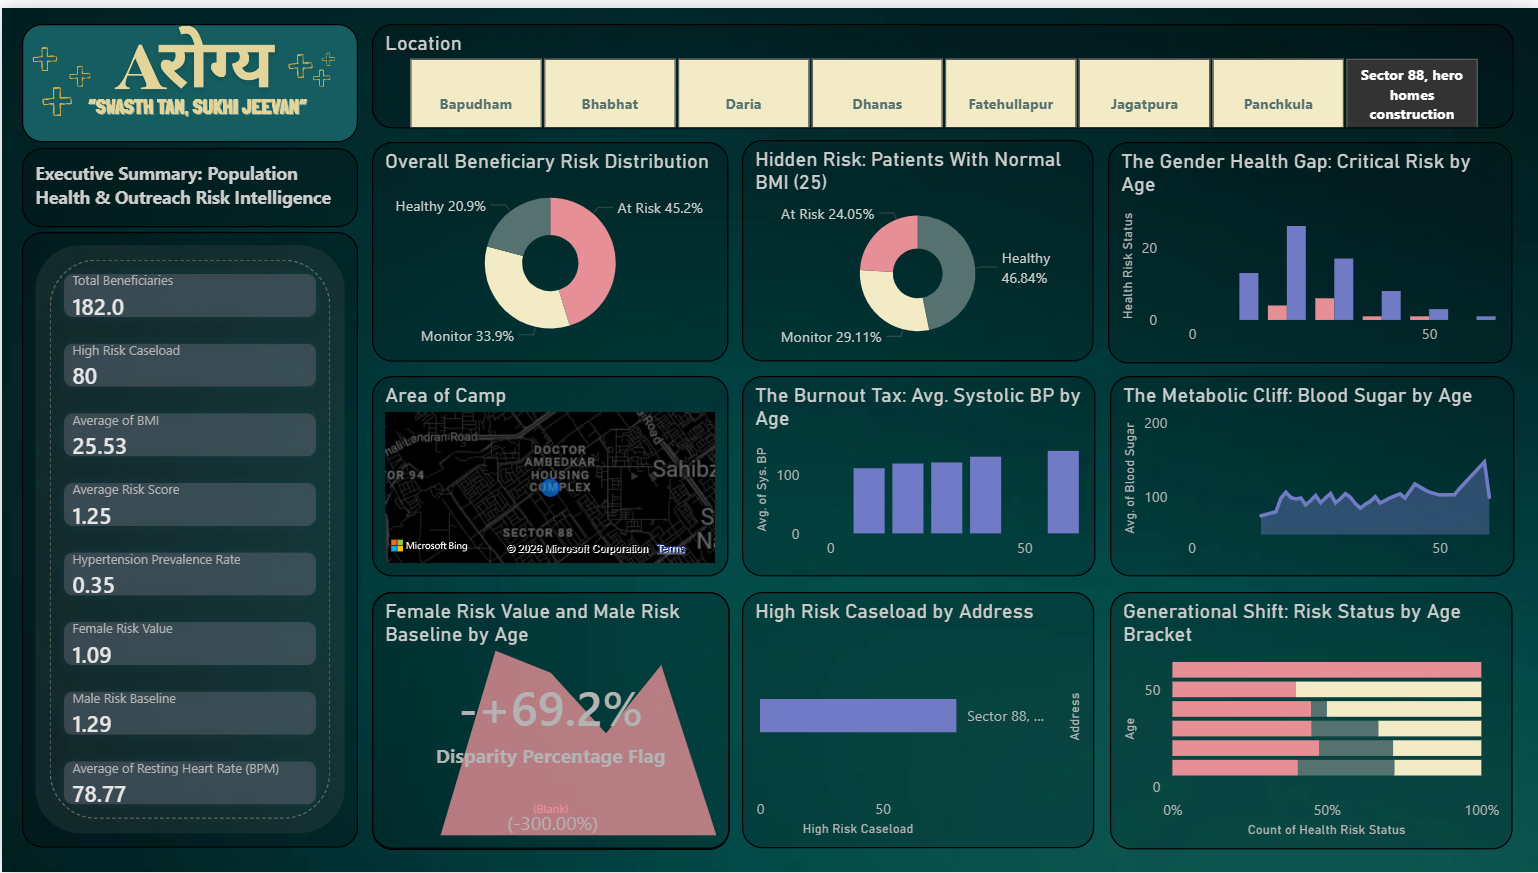

This screenshot's page, from the dashboard's own definition file:
{"tool":"powerbi","page":{"name":"Page 1","canvas":[1280,720],"ordinal":0},"visuals":[{"type":"donutChart","title":"Overall Beneficiary Risk Distribution","fields":{"Category":["Sheet1.Health Risk Status"],"Y":["CountNonNull(Sheet1.Health Risk Status)"]},"box":[308.6,111.4,297.1,182.9],"z":0},{"type":"hundredPercentStackedBarChart","title":"Generational Shift: Risk Status by Age Bracket","fields":{"Category":["Sheet1.Age (bins)"],"Y":["CountNonNull(Sheet1.Health Risk Status)"],"Series":["Sheet1.Health Risk Status"]},"box":[922.7,486.4,335.5,214.5],"z":1000},{"type":"lineChart","title":"The Metabolic Cliff: Blood Sugar by Age","fields":{"Category":["Sheet1.Age"],"Y":["Avg(Sheet1.Blood Sugar)"]},"box":[922.9,307.1,337.1,167.1],"z":2000},{"type":"clusteredColumnChart","title":"The Gender Health Gap: Critical Risk by Age","fields":{"Category":["Sheet1.Age (bins)"],"Series":["Sheet1.Gender"],"Y":["CountNonNull(Sheet1.Health Risk Status)"]},"box":[921.4,111.4,337.1,184.3],"z":3000},{"type":"slicer","title":"Location","fields":{"Values":["Sheet1.Address"]},"box":[308.6,12.9,951.4,87],"z":4000},{"type":"map","title":"Area of Camp","fields":{"Y":["Sheet1 (4).Latitude"],"X":["Sheet1 (4).Longitute"],"Size":["CountNonNull(Sheet1.Health Risk Status)"]},"box":[308.6,307.1,297.1,167.1],"z":5000},{"type":"donutChart","title":"Hidden Risk: Patients With Normal BMI (25)","fields":{"Category":["Sheet1.Health Risk Status"],"Y":["CountNonNull(Sheet1.Health Risk Status)"]},"box":[616.7,110,292.9,184.3],"z":6000},{"type":"clusteredColumnChart","title":"The Burnout Tax: Avg. Systolic BP by Age","fields":{"Category":["Sheet1.Age (bins)"],"Y":["Avg(Sheet1.Systolic BP)"]},"box":[617.1,307.1,294.3,167.1],"z":7000},{"type":"cardVisual","fields":{"Data":["_Calculated Measures.'Total_Beneficiaries'","_Calculated Measures.High_Risk_Caseload","Avg(Sheet1 (4).BMI)","_Calculated Measures.Avg_Risk_Score","_Calculated Measures.Hypertension_Prevalence_Rate","_Calculated Measures.Female_Risk_Value","_Calculated Measures.Male_Risk_Baseline","Avg(Sheet1 (4).Resting Heart Rate (BPM))"]},"box":[17.1,187.1,280,512.9],"z":8000},{"type":"image","box":[16.7,13.3,280,98.3],"z":9000},{"type":"kpi","title":"Female Risk Value and Male Risk Baseline by Age","fields":{"Goal":["_Calculated Measures.Male Risk Baseline"],"Indicator":["_Calculated Measures.Female Risk Value"],"TrendLine":["Sheet1.Age (bins)"]},"box":[308,486,298,214],"z":10000},{"type":"clusteredBarChart","fields":{"Category":["Sheet1.Address"],"Y":["_Calculated Measures.High Risk Caseload"]},"box":[617.3,486.4,293.6,213.6],"z":11000},{"type":"textbox","box":[16.7,116.7,280,66],"z":12000},{"type":"cardVisual","fields":{"Data":["_Calculated Measures.Disparity Percentage Flag"]},"box":[308,486,298,215],"z":13000}]}

Visuals, with their boxes in screenshot pixels (x1, y1, x2, y2), scaled from the page's 1280x720 canvas onto the 1538x873 screenshot:
"Overall Beneficiary Risk Distribution" donutChart: <box>371,135,728,357</box>
"Generational Shift: Risk Status by Age Bracket" hundredPercentStackedBarChart: <box>1109,590,1512,850</box>
"The Metabolic Cliff: Blood Sugar by Age" lineChart: <box>1109,372,1514,575</box>
"The Gender Health Gap: Critical Risk by Age" clusteredColumnChart: <box>1107,135,1512,359</box>
"Location" slicer: <box>371,16,1514,121</box>
"Area of Camp" map: <box>371,372,728,575</box>
"Hidden Risk: Patients With Normal BMI (25)" donutChart: <box>741,133,1093,357</box>
"The Burnout Tax: Avg. Systolic BP by Age" clusteredColumnChart: <box>741,372,1095,575</box>
cardVisual - _Calculated Measures.'Total_Beneficiaries' x _Calculated Measures.High_Risk_Caseload: <box>21,227,357,849</box>
image: <box>20,16,357,135</box>
"Female Risk Value and Male Risk Baseline by Age" kpi: <box>370,589,728,849</box>
clusteredBarChart - Sheet1.Address x _Calculated Measures.High Risk Caseload: <box>742,590,1095,849</box>
textbox: <box>20,141,357,222</box>
cardVisual - _Calculated Measures.Disparity Percentage Flag: <box>370,589,728,850</box>
